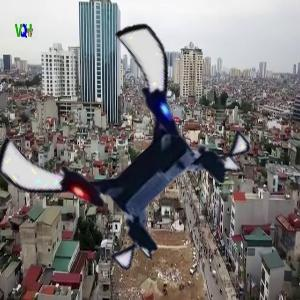drone: (15, 46, 230, 261)
